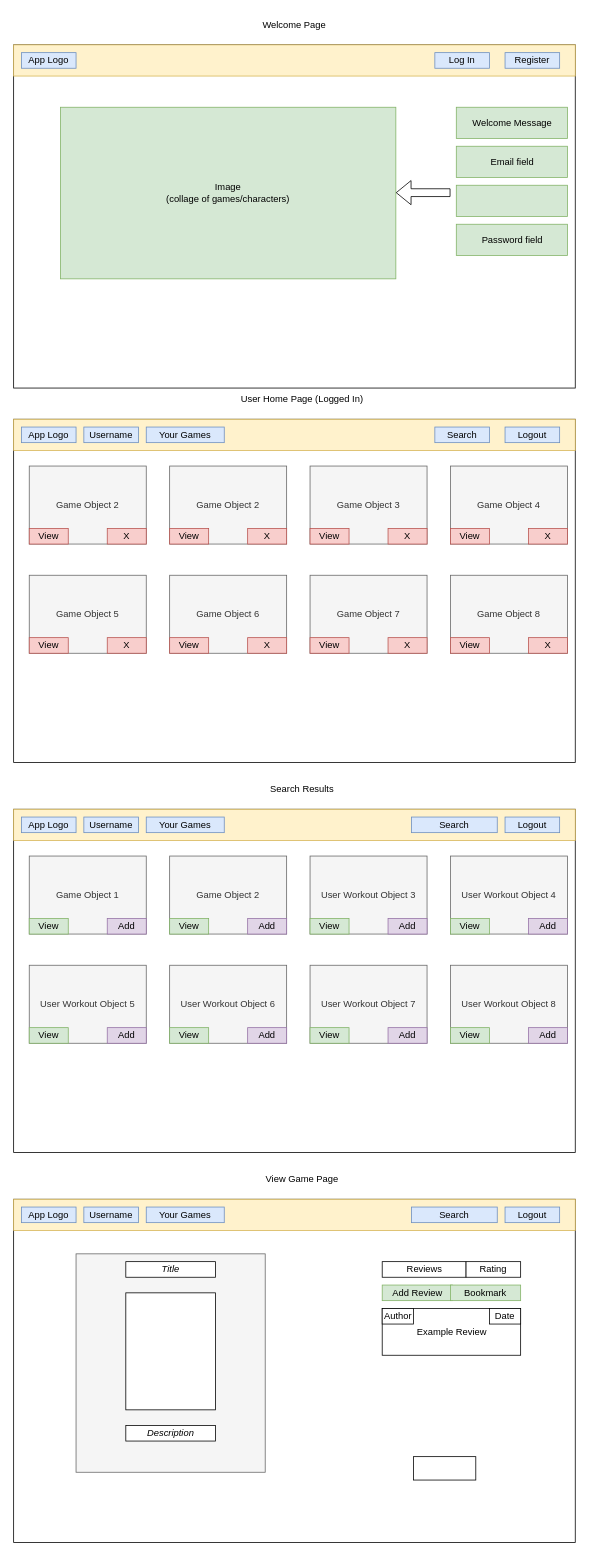
This 589x1556 diagram has some shape labels left out. Each missing label, with the centre of its shape:
"Image of Game" goes at point (170, 1351).
"Username field" goes at point (511, 200).
"Users Bookmarked" goes at point (444, 1468).
